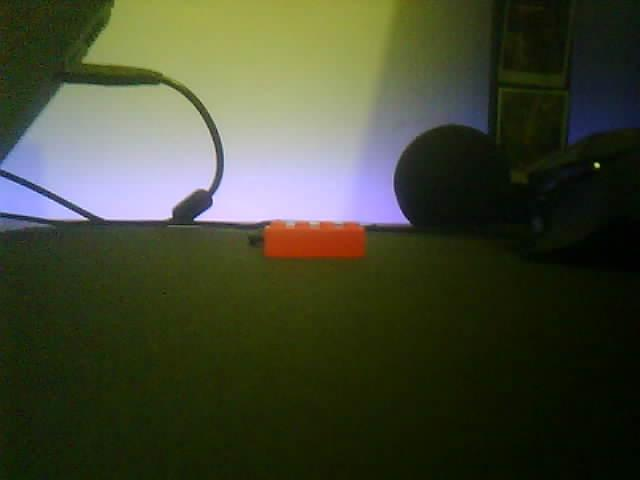lego: (262, 219, 366, 258)
